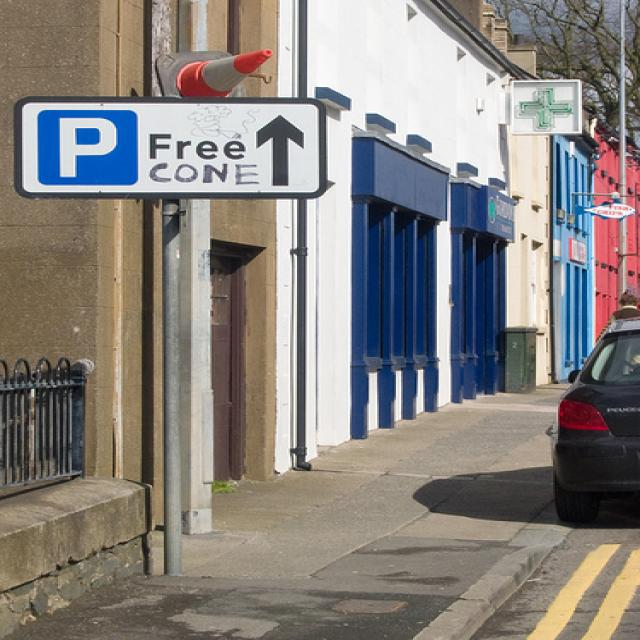Vehicle: (549, 318, 640, 524)
